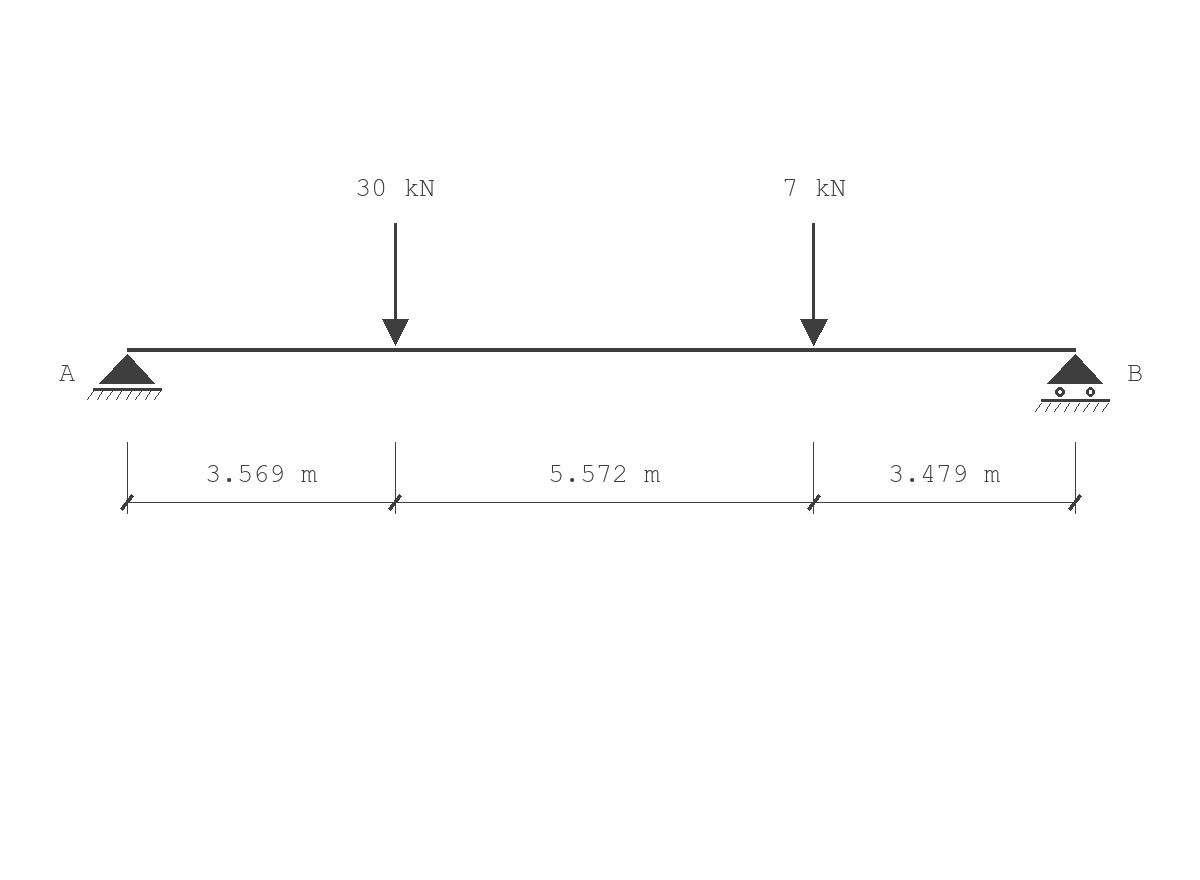pin_support: (87, 354, 162, 400)
point_load: (800, 223, 828, 346), (382, 223, 409, 346)
roller_support: (1035, 354, 1110, 412)
